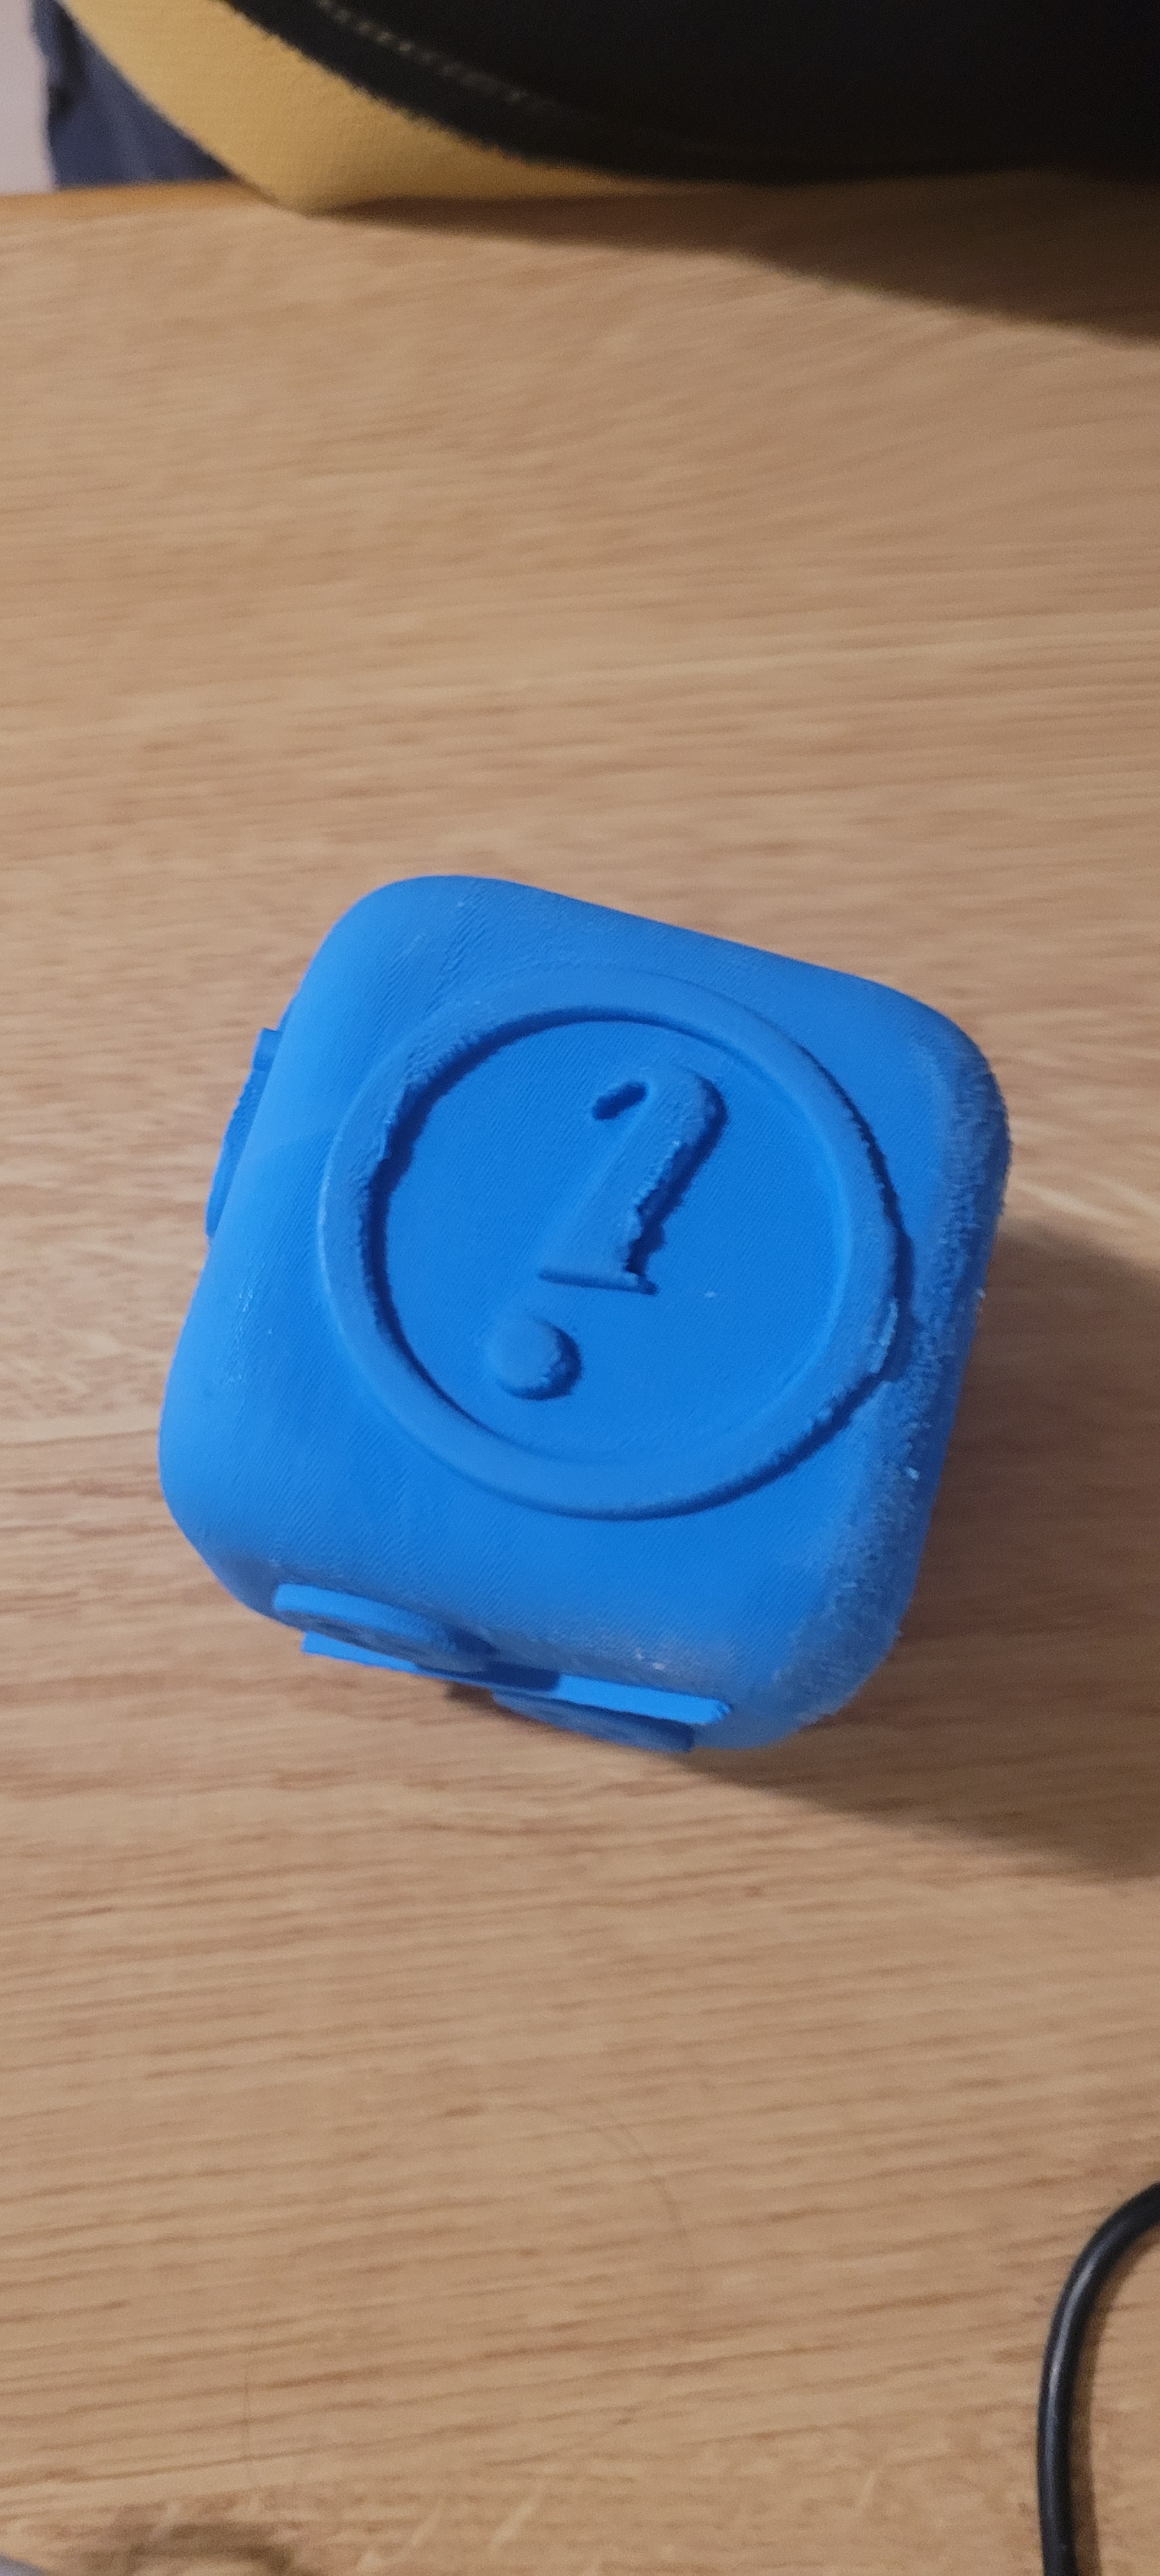Info: (334, 871, 914, 1536)
